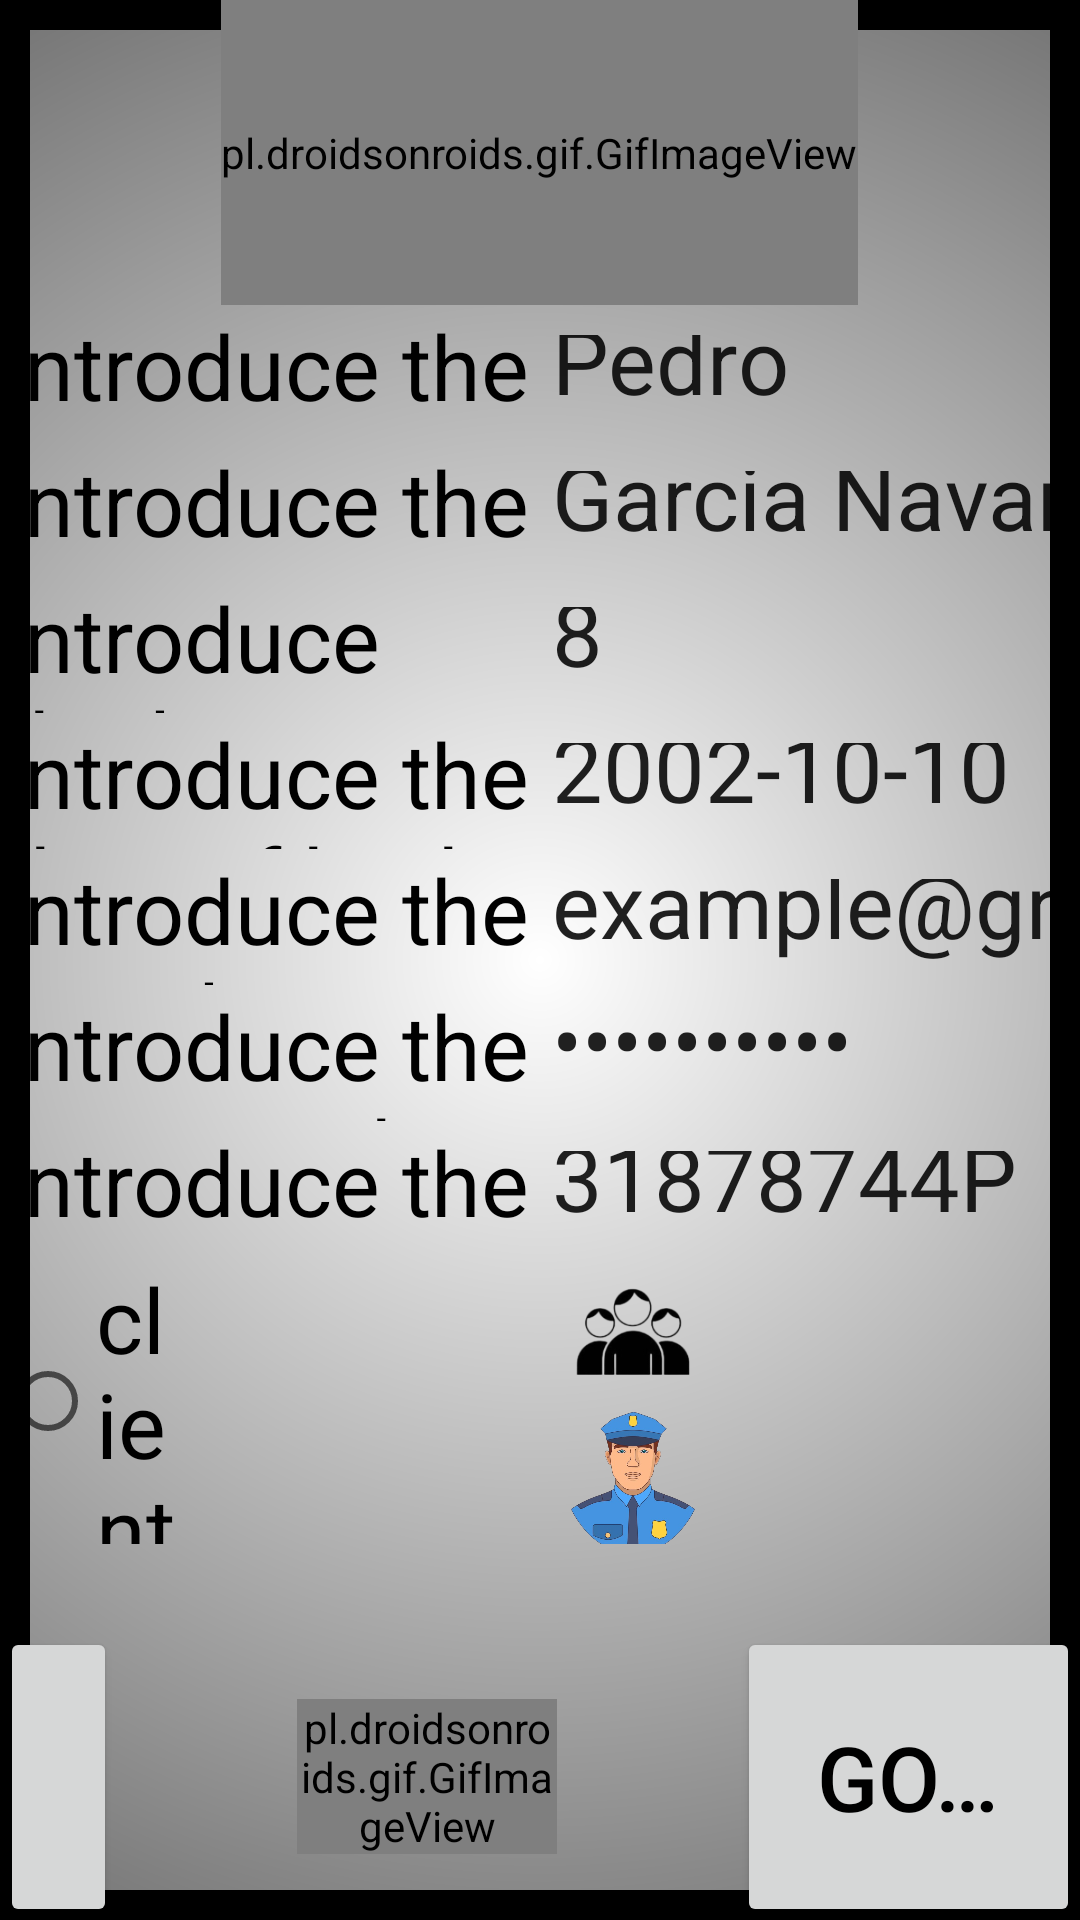

Named icons in this screenshot (1080x1920) and their bounding boxes, (x1, y1, x2, y2):
trabajador: (571, 1412, 695, 1544)
